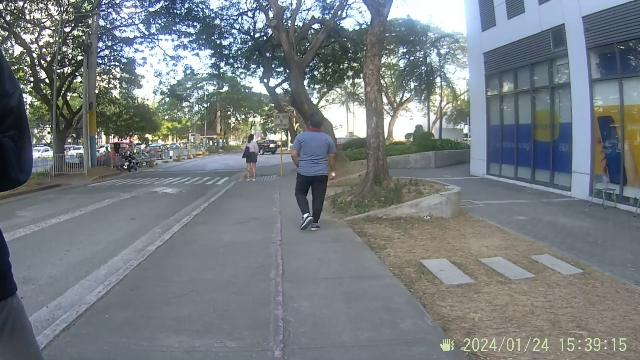street_sign: (266, 105, 292, 180)
tree: (348, 1, 412, 203)
utility_post: (80, 7, 100, 169)
